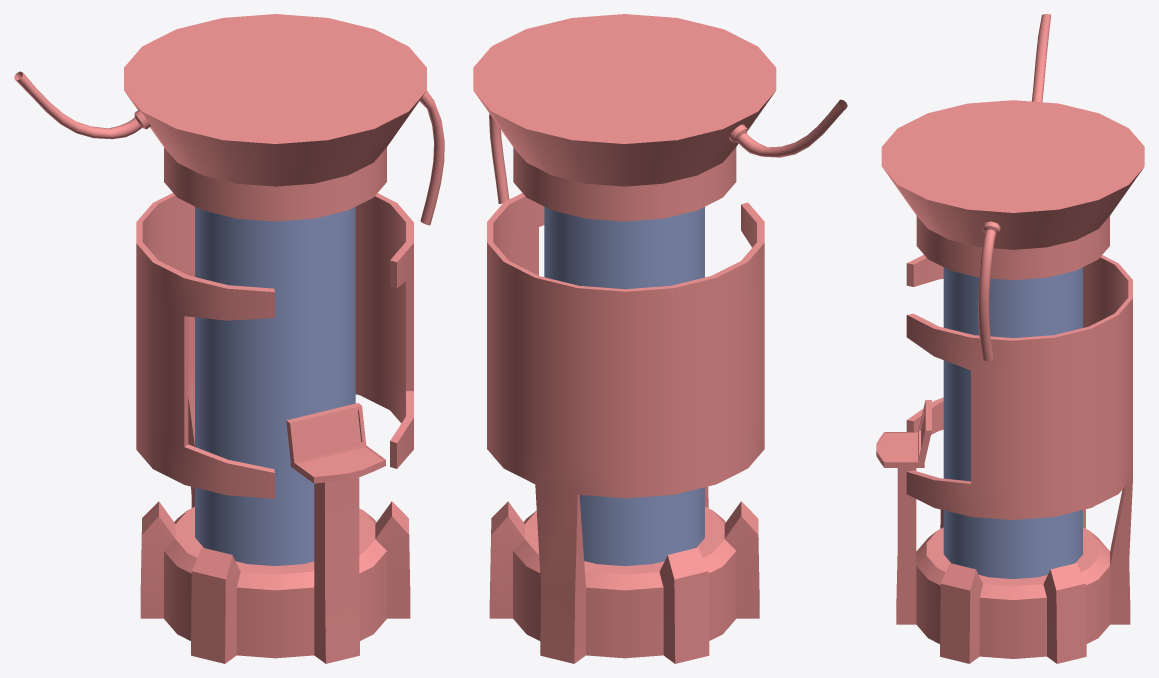
Rendered from tank.FBX.
3 views of the same model, side by side, from view 1: azimuth 30°, elevation 25°; view 2: azimuth 150°, elevation 25°; view 3: azimuth 270°, elevation 25° (orthographic). The views are drawn at different scales.
Parts seen in each view (by area): view 1: Cylinder001; view 2: Cylinder001; view 3: Cylinder001.
Part boxes in pixels (x1,y1,x2,y2): Cylinder001: [14, 14, 444, 663]; Cylinder001: [473, 14, 847, 663]; Cylinder001: [876, 14, 1144, 663].
Size of the model in its own units: 2.59 by 3.67 by 1.77.
